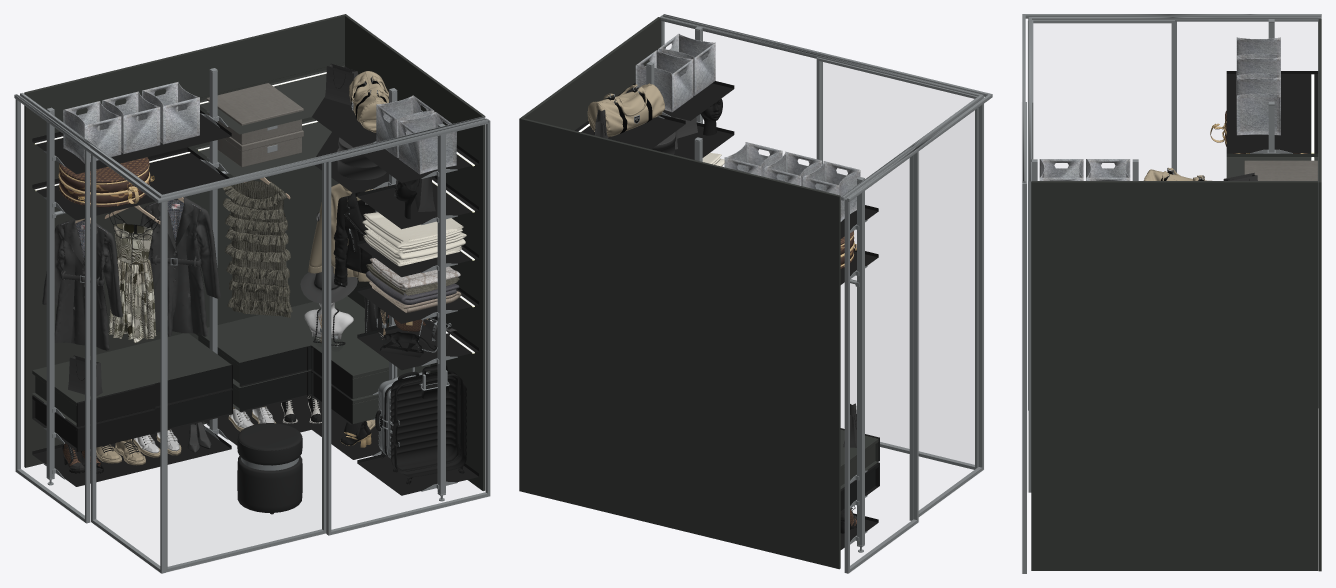
Rendered from bedroom-wardrobe-3.glb.
3 renders of one model, left to right at view 1: azimuth 30°, elevation 25°; view 2: azimuth 150°, elevation 25°; view 3: azimuth 270°, elevation 25°, orthographic. The views are drawn at different scales.
Visible parts, largest first — view 1: bedroom-wardrobe-3; view 2: bedroom-wardrobe-3; view 3: bedroom-wardrobe-3.
Part boxes in pixels (box(x1,y1,x2,y2)): bedroom-wardrobe-3: box(14, 14, 490, 573); bedroom-wardrobe-3: box(519, 14, 992, 573); bedroom-wardrobe-3: box(1022, 14, 1321, 573).
Bounding box in the file's own units: 2.16 × 2.35 × 1.63.
Materials: 65 (21 with a texture image).
